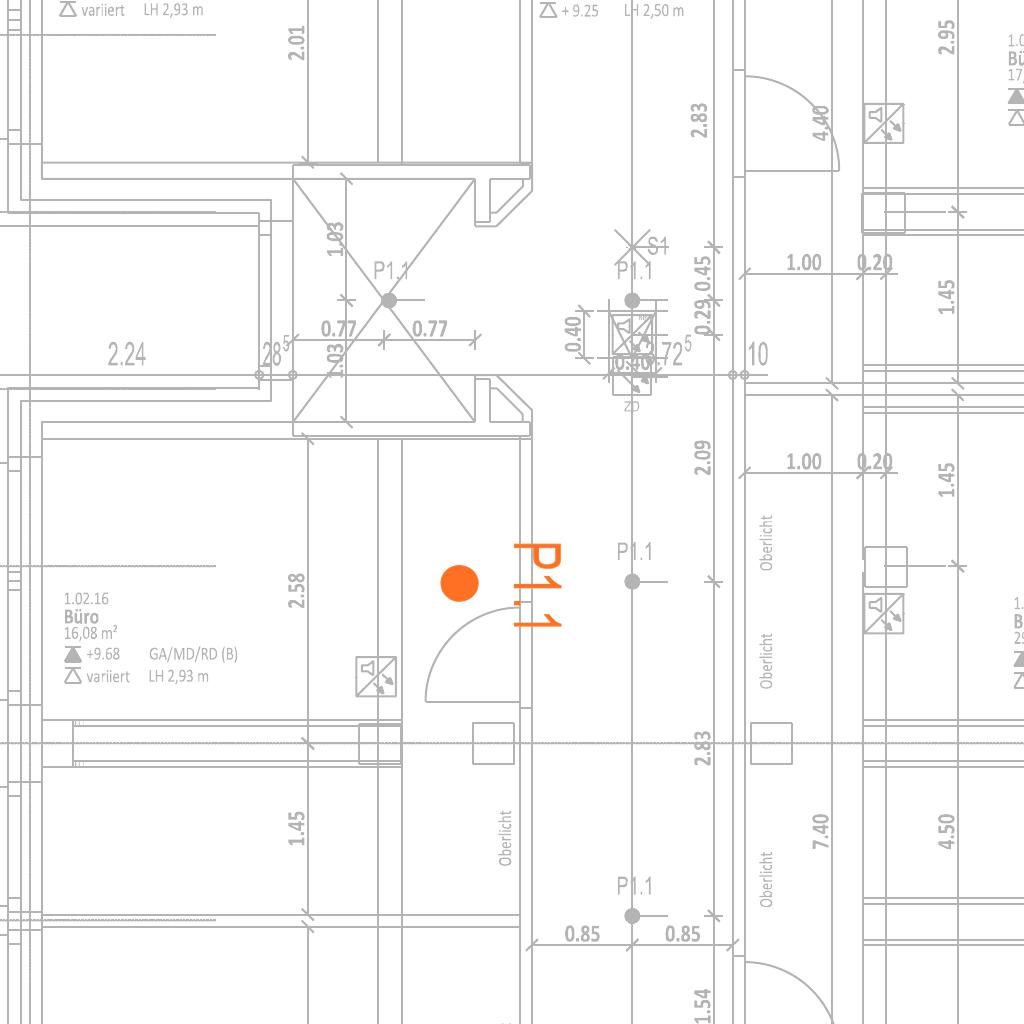Downlight_LED_Einbauleuchten_Flur_2: (437, 540, 565, 633)
